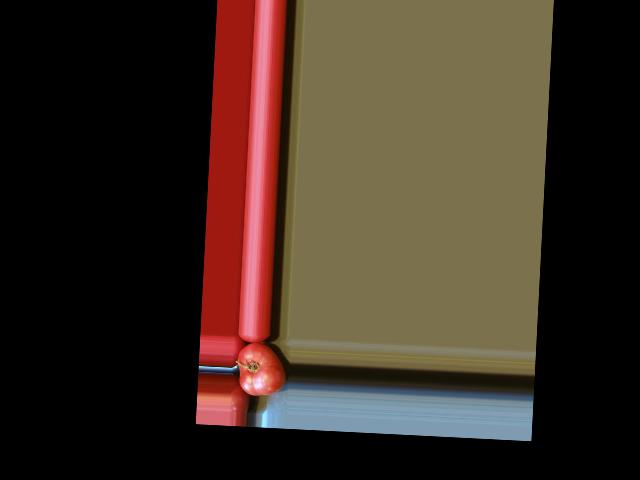tomato: (236, 342, 287, 396)
